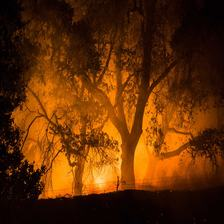fire: (83, 151, 119, 195)
